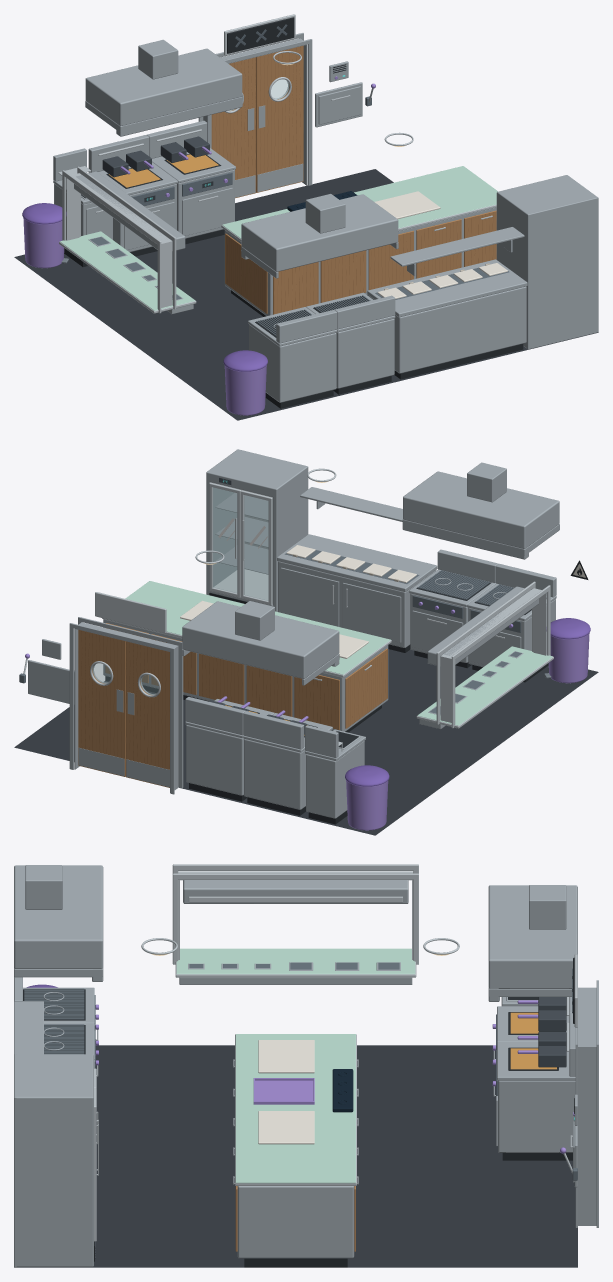
Rendered from C1_Mutfak_Yerlesim.glb.
3 views of the same model, one above another, from view 1: azimuth 30°, elevation 25°; view 2: azimuth 150°, elevation 25°; view 3: azimuth 270°, elevation 25° (orthographic). The views are drawn at different scales.
Parts seen in each view (by area): view 1: REF_Zemin_5.60x6.00, SM_AssemblyIsland_08, SM_ReachInFridge_19, SM_PrepTable_13, SM_ExhaustHood_06, SM_ExhaustHood_07, SM_StationWindow_23, SM_Grill_01, SM_SwingDoor_26, SM_Fryer_04, SM_Grill_02, SM_Fryer_03 (+12 smaller); view 2: REF_Zemin_5.60x6.00, SM_AssemblyIsland_08, SM_ReachInFridge_19, SM_PrepTable_13, SM_ExhaustHood_07, SM_ExhaustHood_06, SM_StationWindow_23, SM_SwingDoor_26, SM_SwingDoor_25, SM_Fryer_03, SM_Fryer_04, SM_Grill_02 (+12 smaller); view 3: REF_Zemin_5.60x6.00, SM_AssemblyIsland_08, SM_ReachInFridge_19, SM_StationWindow_23, SM_ExhaustHood_07, SM_ExhaustHood_06, SM_Fryer_04, SM_HeatLampRail_24, SM_SwingDoorFrame_27, SM_Grill_01, SM_CuttingBoard_09, SM_CuttingBoard_10 (+6 smaller).
Part boxes in pixels (left/top/right/bottom): REF_Zemin_5.60x6.00: left=14, top=169, right=598, bottom=420; SM_AssemblyIsland_08: left=221, top=166, right=497, bottom=316; SM_ReachInFridge_19: left=496, top=175, right=598, bottom=349; SM_PrepTable_13: left=367, top=259, right=527, bottom=379; SM_ExhaustHood_06: left=85, top=39, right=242, bottom=136; SM_ExhaustHood_07: left=241, top=193, right=398, bottom=278; SM_StationWindow_23: left=59, top=166, right=196, bottom=314; SM_Grill_01: left=248, top=307, right=337, bottom=408; SM_SwingDoor_26: left=256, top=45, right=303, bottom=192; SM_Fryer_04: left=147, top=120, right=235, bottom=244; SM_Grill_02: left=306, top=292, right=395, bottom=394; SM_Fryer_03: left=88, top=135, right=177, bottom=256; REF_Zemin_5.60x6.00: left=14, top=649, right=598, bottom=835; SM_AssemblyIsland_08: left=102, top=581, right=391, bottom=732; SM_ReachInFridge_19: left=206, top=449, right=308, bottom=611; SM_PrepTable_13: left=277, top=534, right=437, bottom=652; SM_ExhaustHood_07: left=402, top=462, right=559, bottom=559; SM_ExhaustHood_06: left=182, top=601, right=339, bottom=685; SM_StationWindow_23: left=416, top=581, right=553, bottom=729; SM_SwingDoor_26: left=78, top=629, right=125, bottom=776; SM_SwingDoor_25: left=126, top=641, right=169, bottom=787; SM_Fryer_03: left=243, top=711, right=332, bottom=815; SM_Fryer_04: left=185, top=697, right=274, bottom=801; SM_Grill_02: left=409, top=549, right=498, bottom=668; REF_Zemin_5.60x6.00: left=14, top=1045, right=577, bottom=1267; SM_AssemblyIsland_08: left=233, top=1034, right=358, bottom=1267; SM_ReachInFridge_19: left=14, top=1054, right=95, bottom=1267; SM_StationWindow_23: left=172, top=864, right=418, bottom=984; SM_ExhaustHood_07: left=14, top=865, right=103, bottom=981; SM_ExhaustHood_06: left=488, top=885, right=577, bottom=1001; SM_Fryer_04: left=492, top=1013, right=575, bottom=1160; SM_HeatLampRail_24: left=183, top=880, right=408, bottom=903; SM_SwingDoorFrame_27: left=575, top=980, right=598, bottom=1227; SM_Grill_01: left=14, top=977, right=98, bottom=1040; SM_CuttingBoard_09: left=258, top=1040, right=314, bottom=1073; SM_CuttingBoard_10: left=258, top=1111, right=314, bottom=1144.
Bounding box in the file's own units: 5.9 × 2.76 × 6.22.
Materials: 9 (9 with a texture image).
